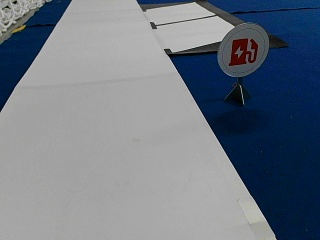battery: (217, 22, 269, 77)
